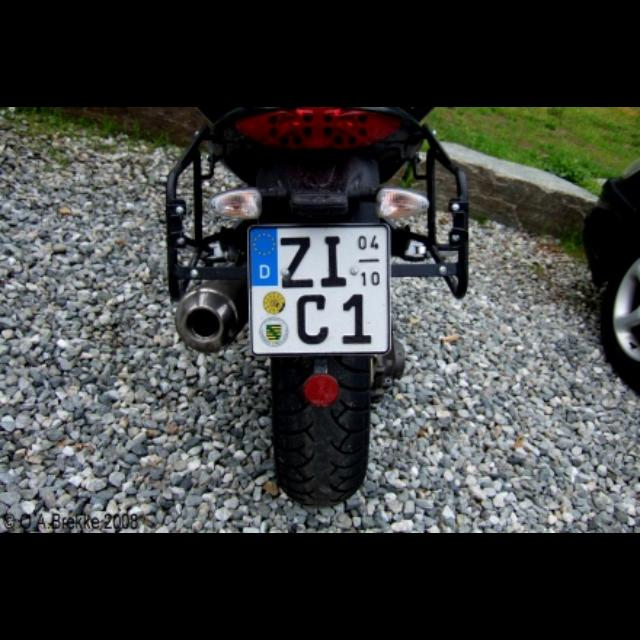d_license_plate: (246, 225, 388, 353)
